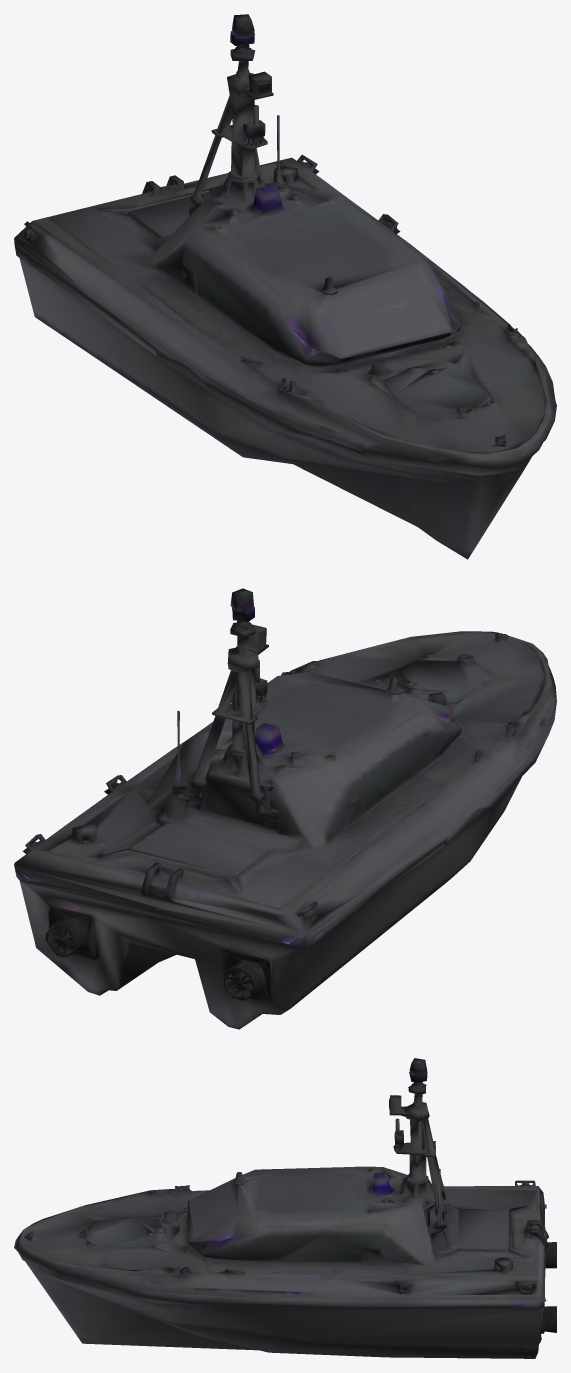
The model's file is boat.glb.
The picture shows the model from 3 angles, top to bottom: view 1: azimuth 30°, elevation 25°; view 2: azimuth 150°, elevation 25°; view 3: azimuth 270°, elevation 25°; orthographic projection. The views are drawn at different scales.
Parts seen in each view (by area): view 1: material; view 2: material; view 3: material.
Boxes of the visible parts, box(x1,y1,x2,y2) form: material: box(14, 14, 556, 559); material: box(14, 588, 556, 1029); material: box(14, 1058, 556, 1358).
Size of the model in its own units: 0.5051 by 0.6194 by 1.07.
Materials: 1 (1 with a texture image).
